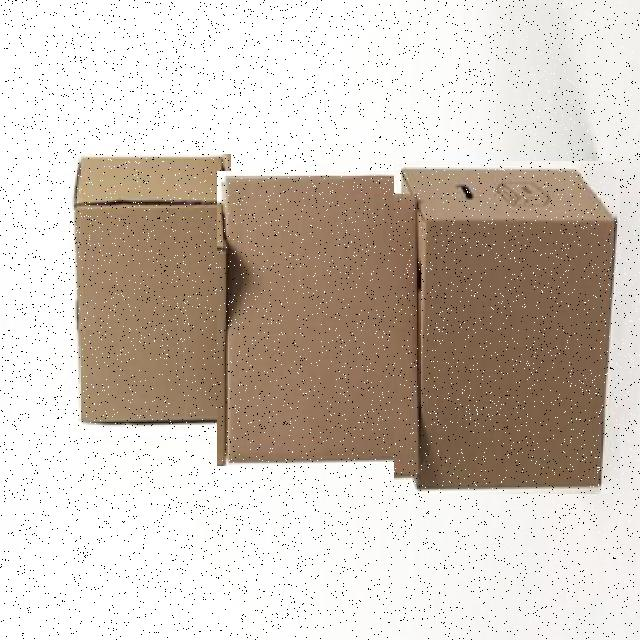normal: (394, 161, 620, 494), (217, 171, 425, 466), (71, 154, 231, 437)
